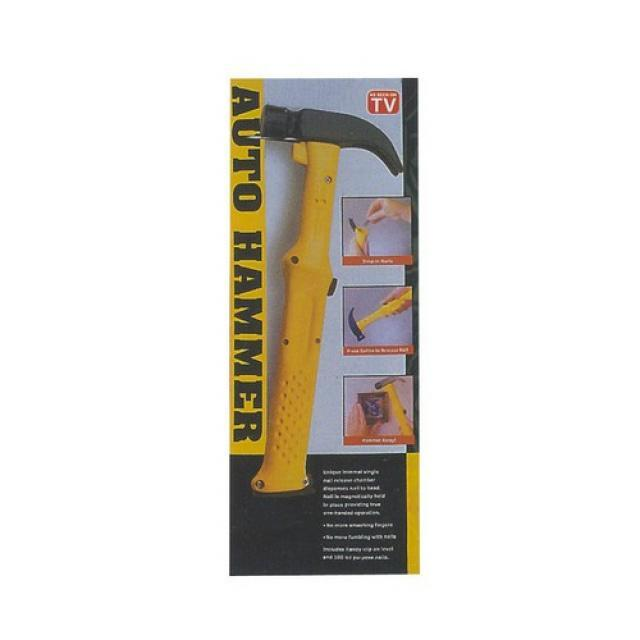hammer: (248, 90, 410, 502)
